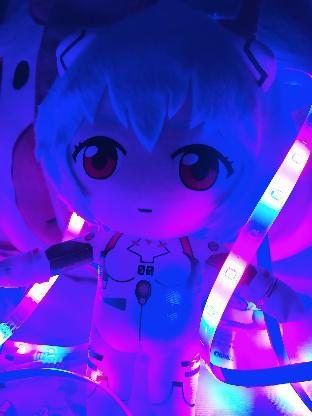rei-plush: (0, 26, 284, 415)
